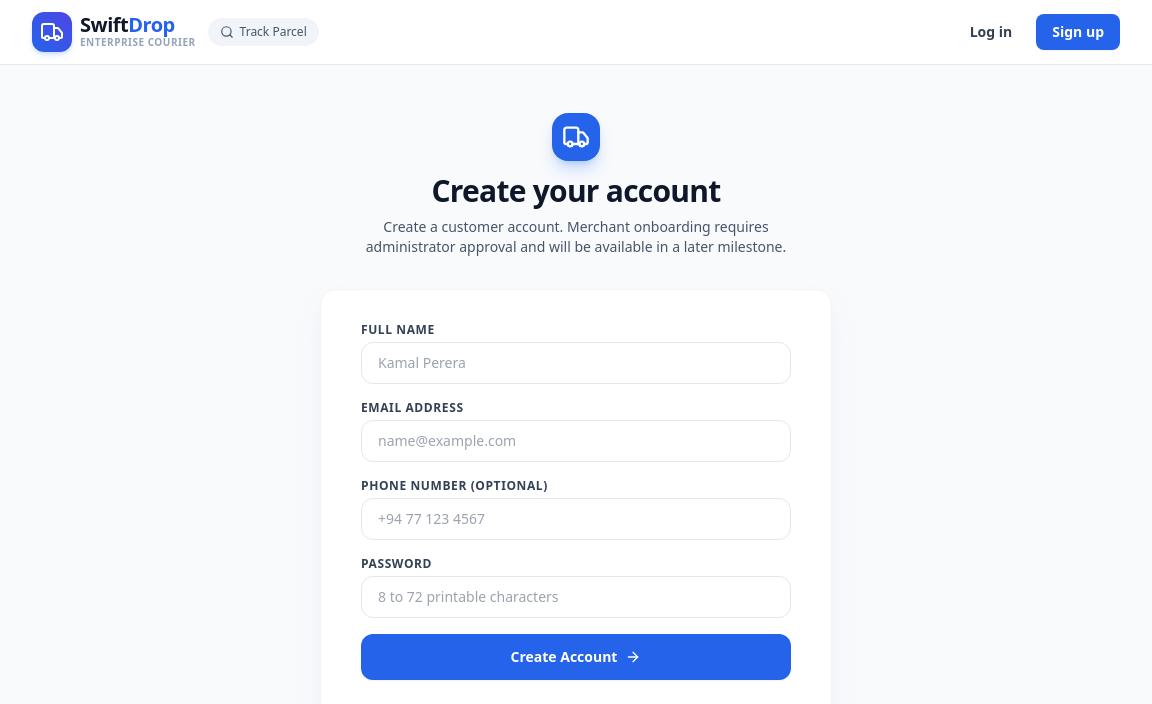
Test: authentication and routing › shows backend validation errors on registration
Step 1. Type "Kamal" into the field with placeholder "Kamal Perera" → (576, 363), box left=361, top=342, right=791, bottom=384
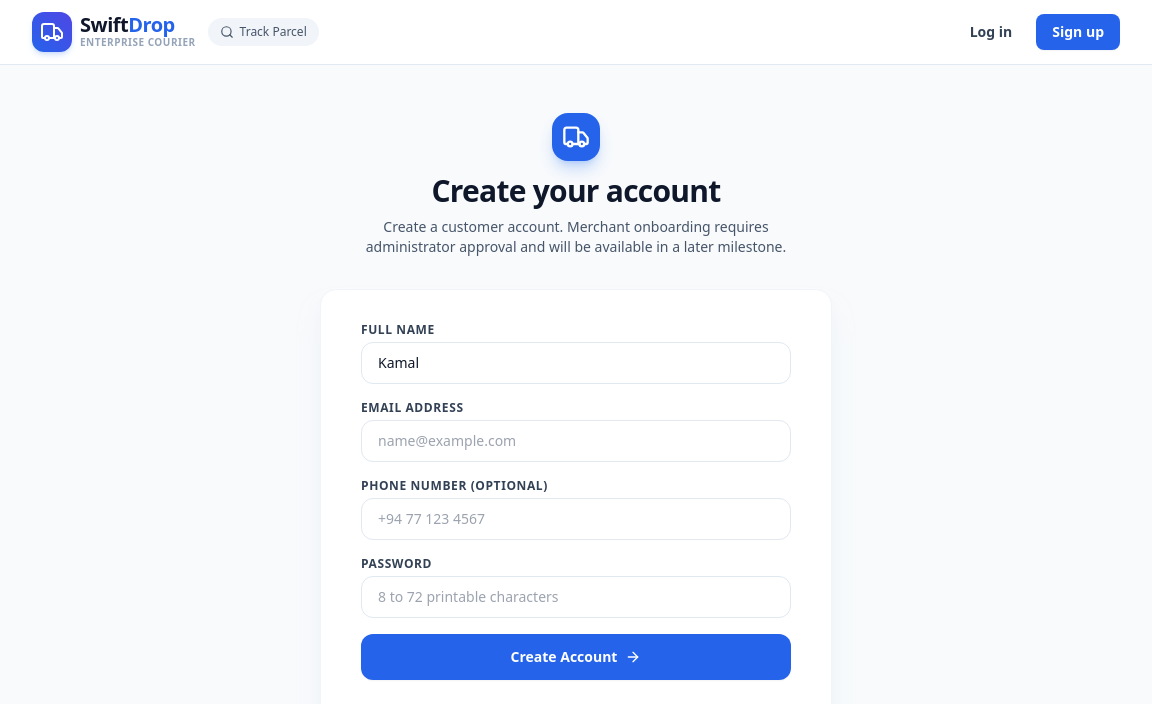
Step 2. Type "kamal@example.lk" into the field with placeholder "name@example.com" → (576, 441), box left=361, top=420, right=791, bottom=462
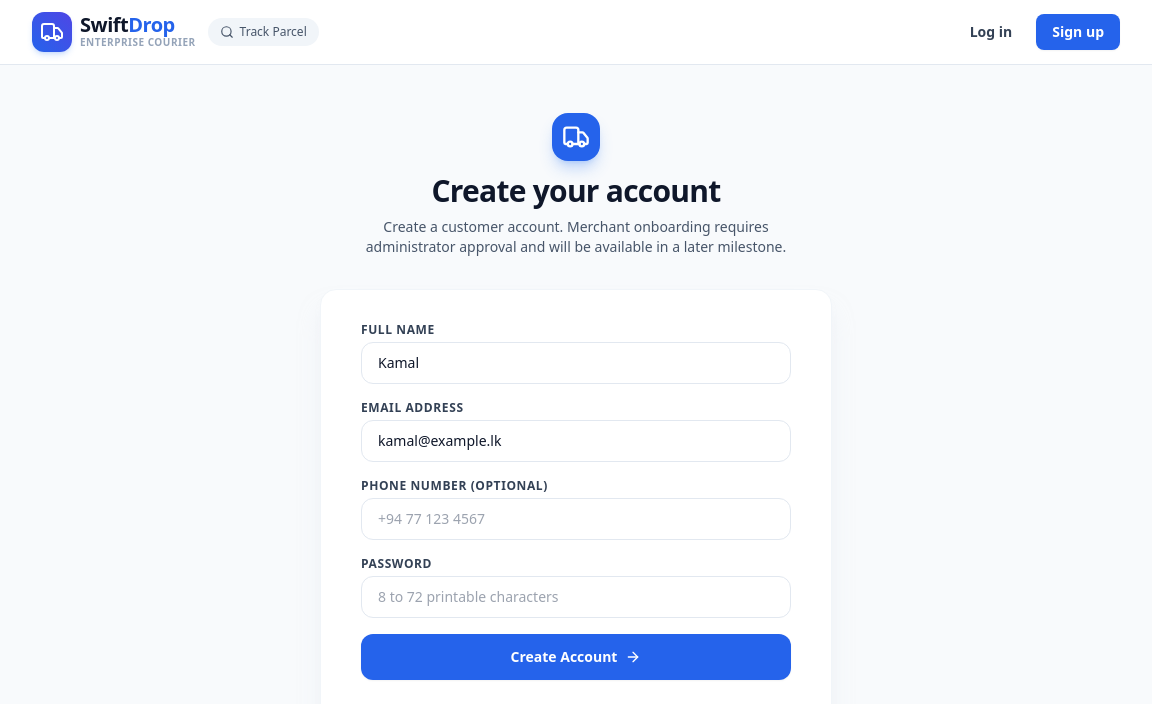
Step 3. Type "Customer@123!" into the password field labelled "Password" → (576, 597), box left=361, top=576, right=791, bottom=618
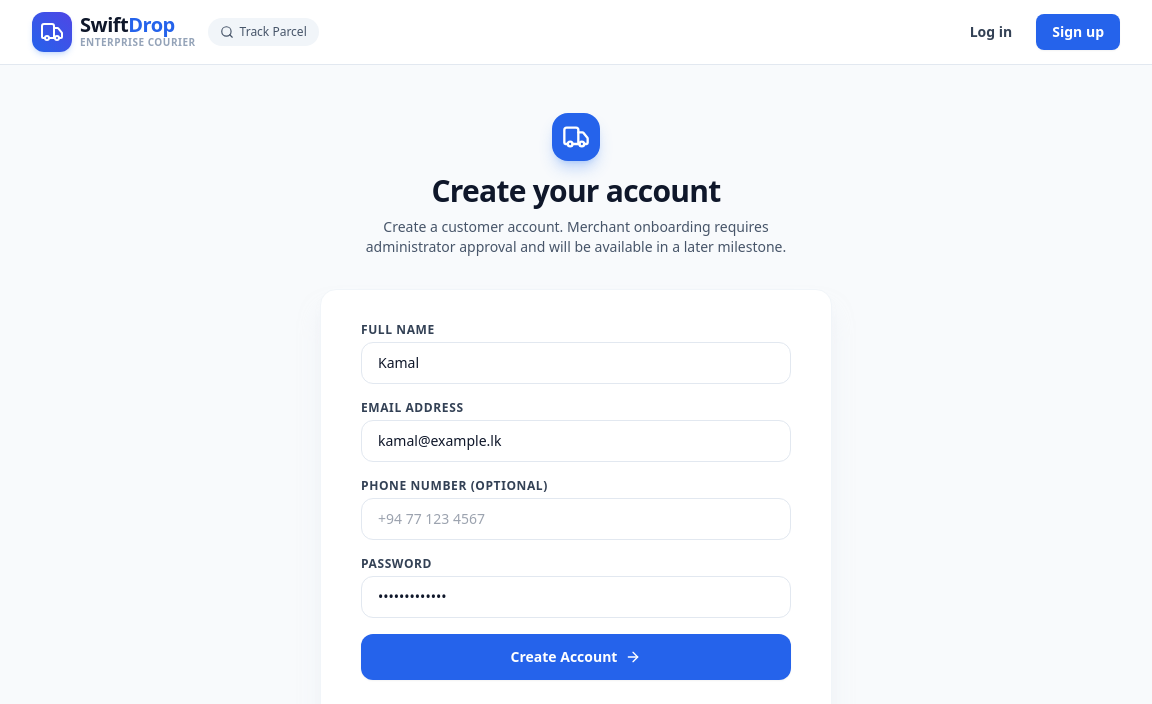
Step 4. Submit the form, box left=361, top=322, right=791, bottom=680
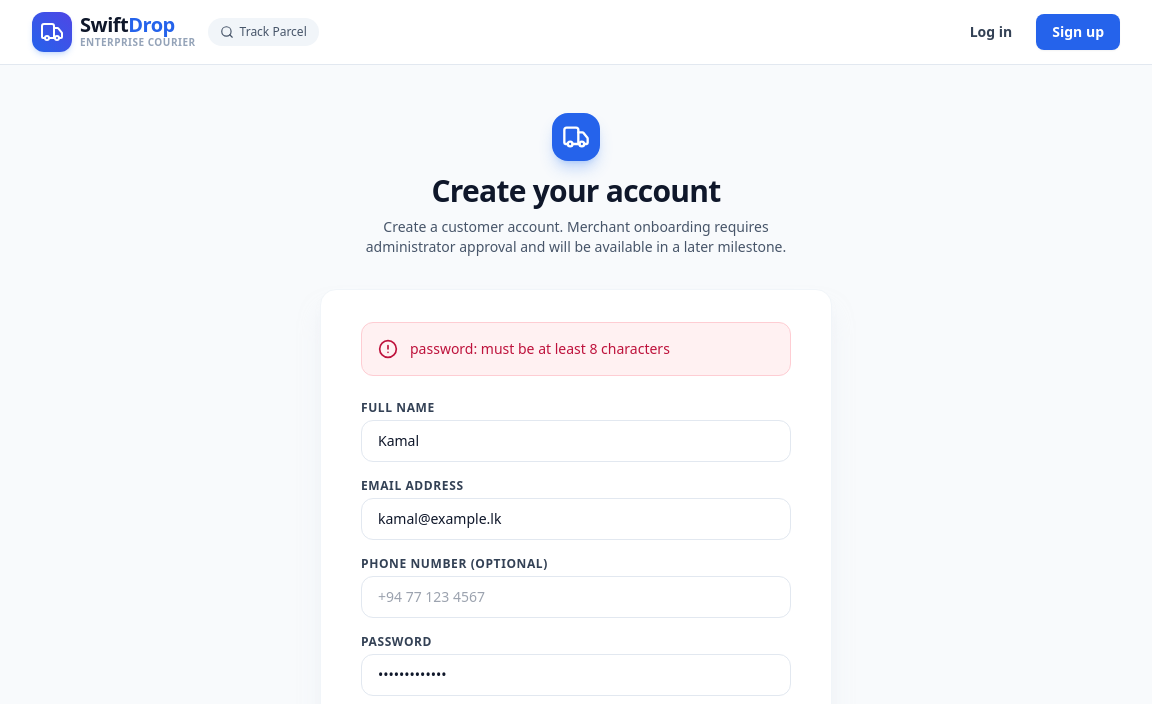
Result: the text "password: must be at least 8 characters" is shown at left=410, top=339, right=670, bottom=359
